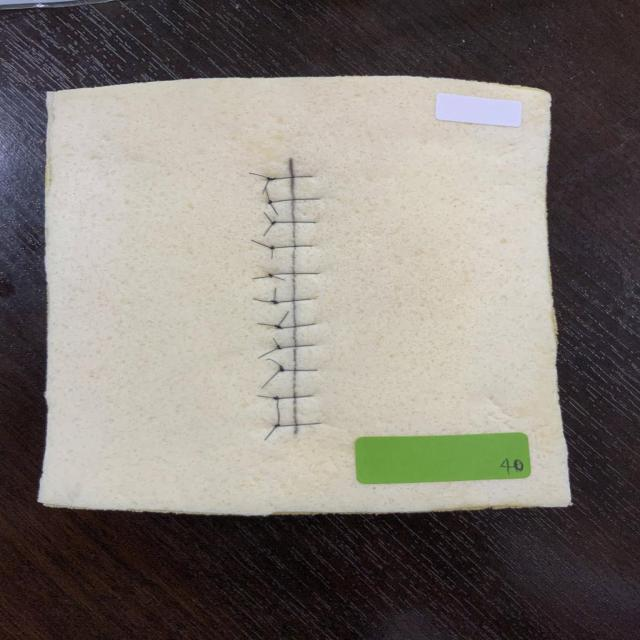knot: (273, 323, 285, 331), (265, 175, 278, 182), (277, 364, 287, 373), (271, 394, 282, 402), (268, 299, 281, 305), (266, 198, 275, 206), (272, 422, 282, 429), (275, 344, 284, 351), (267, 272, 276, 279), (268, 244, 277, 251), (269, 220, 278, 226)
leftover: (261, 369, 281, 389), (257, 347, 279, 359), (251, 239, 272, 249), (277, 311, 289, 327), (264, 425, 276, 440), (248, 172, 269, 179), (263, 223, 274, 236), (269, 202, 279, 216), (266, 358, 281, 367), (263, 212, 274, 224), (262, 178, 269, 194), (271, 275, 286, 281), (276, 403, 280, 425), (251, 275, 272, 279), (257, 323, 277, 327), (253, 298, 273, 302), (265, 187, 270, 202), (257, 395, 275, 399), (272, 338, 279, 347), (273, 288, 276, 302), (270, 248, 273, 259), (276, 398, 279, 408)
stitch: (268, 198, 319, 203), (277, 323, 315, 329), (275, 422, 320, 427), (273, 298, 310, 304), (274, 395, 312, 400), (276, 344, 314, 349), (268, 176, 312, 180), (270, 245, 313, 249), (269, 273, 319, 276), (272, 221, 316, 223), (279, 369, 317, 371)
wound: (289, 157, 298, 436)
